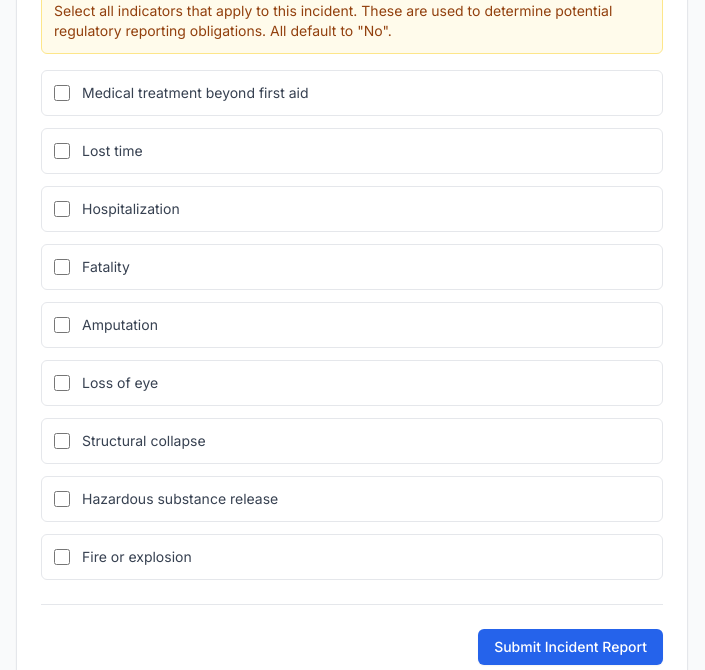
Test: IncidentCreateForm › Validation display › shows validation errors when trying to submit with empty required fields
The width and height of the screenshot is (705, 670).
(page scrolled)
# Click Submit without filling any fields
Click the button "Submit Incident Report" at x=571, y=647, box [478,629,663,665]
(page scrolled)
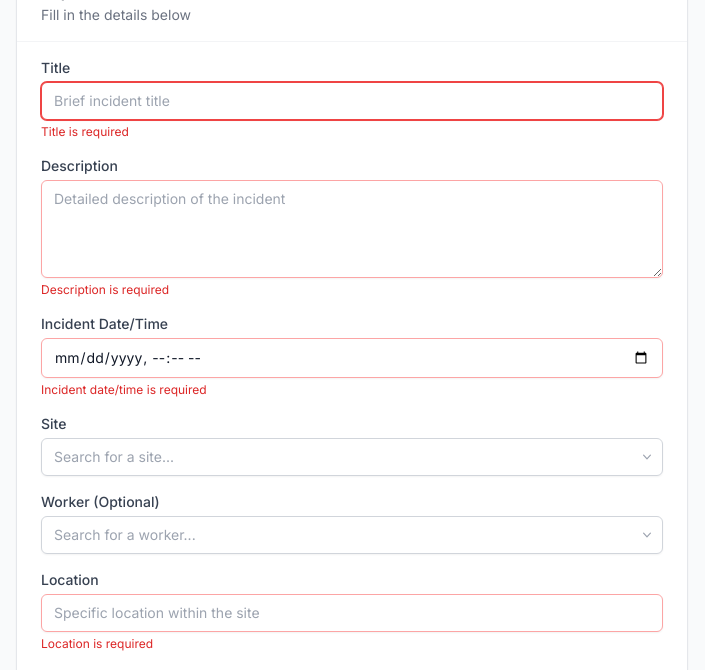
Result: the text "Title is required" is shown at [41,124,129,139]
